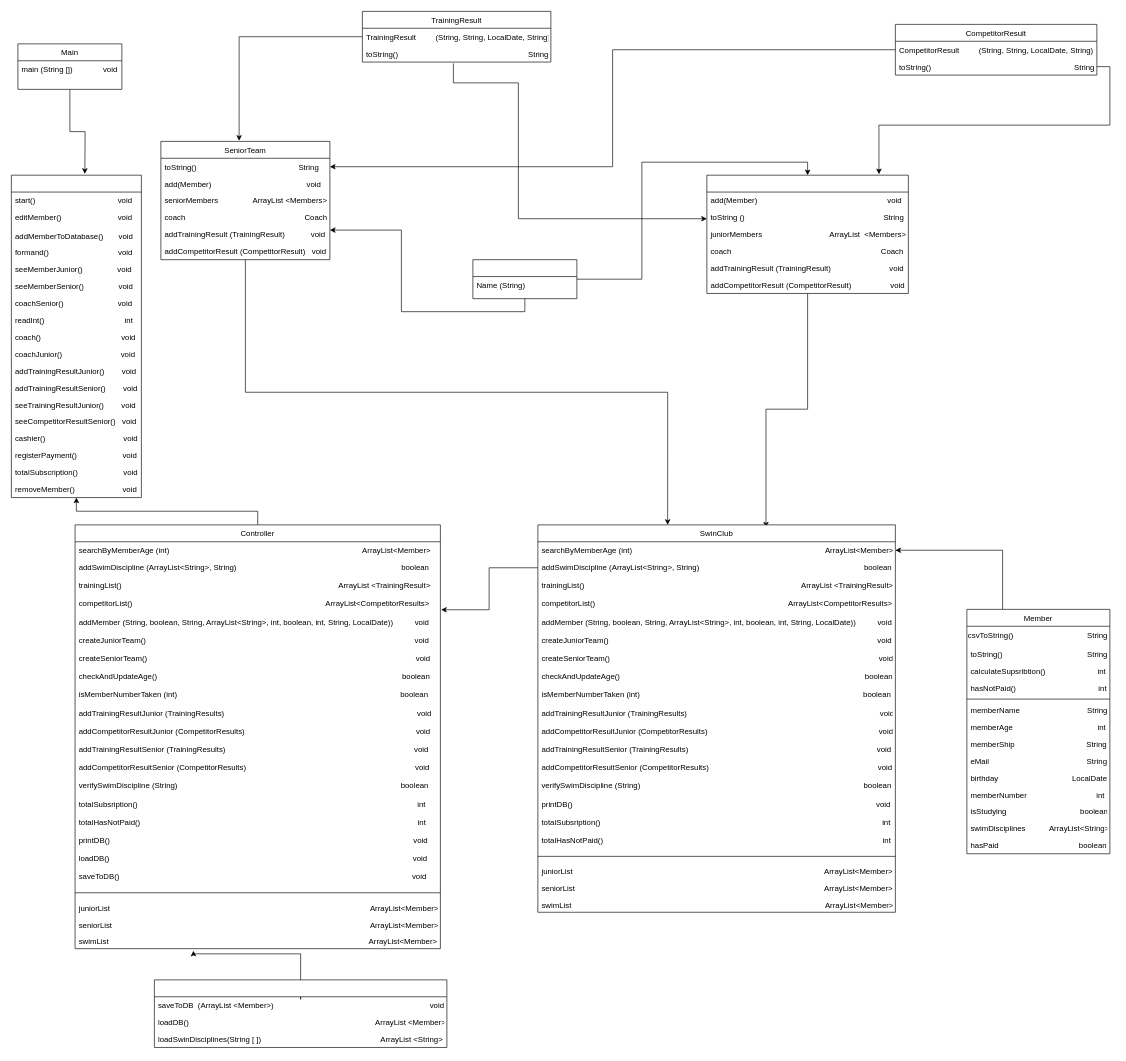
Image size: 1126x1061. Some labels were removed from this diagram. The box of each missing label's shape, as (x1, y1, x2, y2) in pixels:
Coach: (472, 259, 577, 299)
Filehandler: (154, 979, 447, 1047)
JuniorTeam: (706, 175, 908, 293)
UserInterface: (11, 175, 141, 498)
